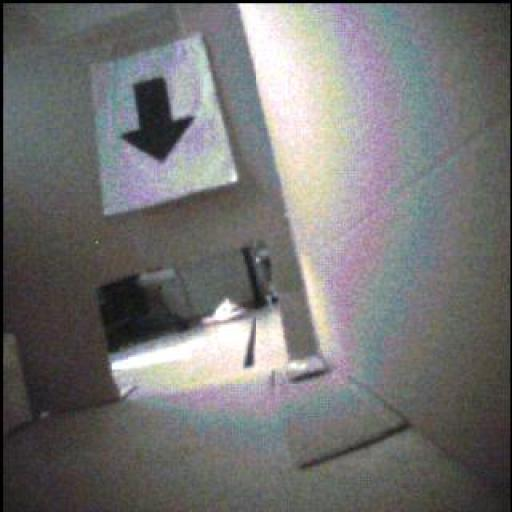arrow: (123, 80, 195, 163)
